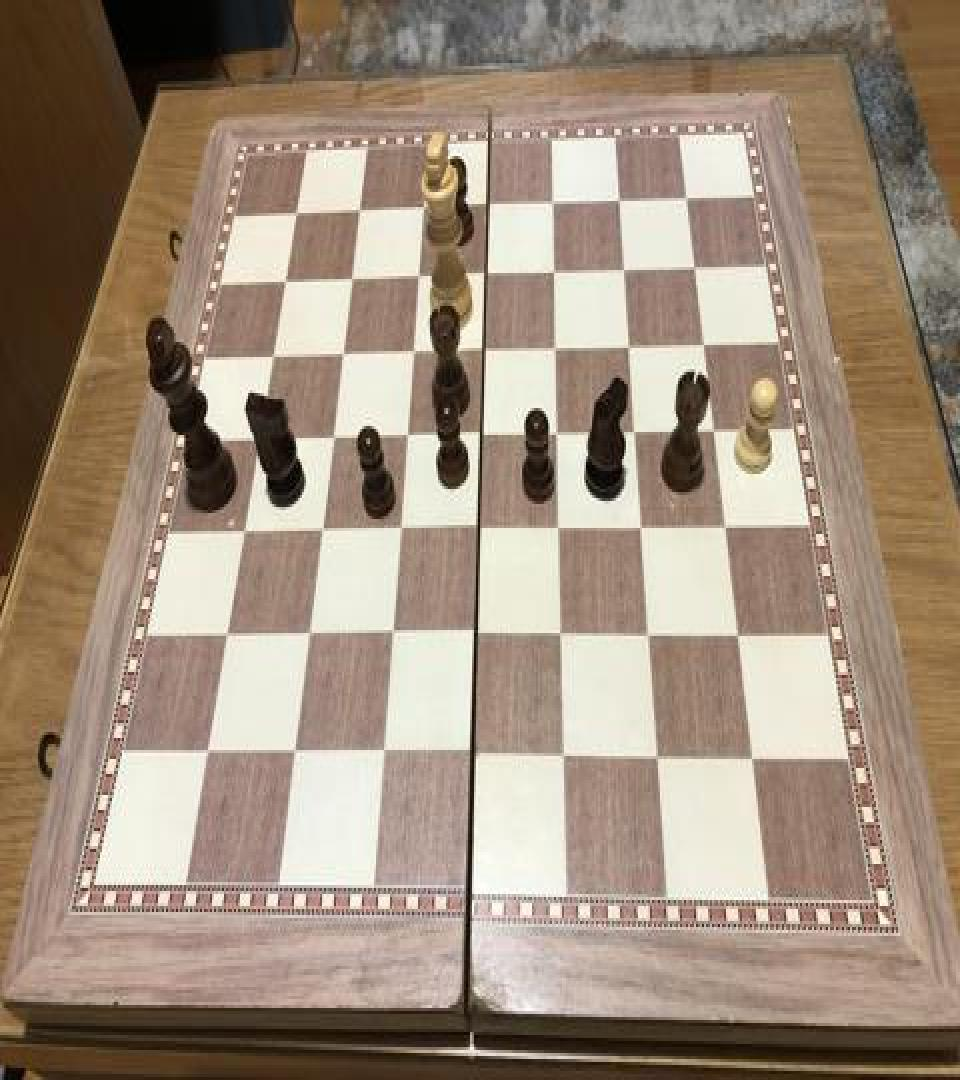xcorner: (725, 616, 749, 653), (637, 616, 661, 653), (550, 616, 574, 653), (464, 616, 488, 653), (380, 616, 404, 653), (297, 616, 321, 653), (215, 616, 239, 653), (741, 739, 765, 776), (196, 733, 220, 770), (672, 182, 696, 218), (605, 184, 629, 220), (474, 189, 498, 225), (410, 192, 434, 228), (347, 195, 371, 231), (284, 198, 308, 234), (680, 250, 704, 286), (610, 254, 634, 290), (541, 255, 565, 291), (473, 258, 497, 294), (339, 262, 363, 298), (273, 266, 297, 302), (690, 327, 714, 363), (543, 332, 567, 368), (471, 333, 495, 369), (400, 334, 424, 370), (330, 338, 354, 374), (261, 339, 285, 375), (622, 414, 646, 450), (545, 416, 569, 452), (469, 417, 493, 453), (394, 418, 418, 454), (320, 420, 344, 456), (247, 422, 271, 458), (712, 508, 736, 544), (629, 508, 653, 544), (547, 510, 571, 546), (467, 510, 491, 546), (387, 512, 411, 548), (309, 513, 333, 549), (232, 513, 256, 549), (646, 738, 670, 774), (553, 738, 577, 774), (461, 736, 485, 772), (371, 736, 395, 772), (283, 735, 307, 771), (539, 188, 563, 223), (405, 260, 429, 295), (616, 329, 640, 364), (700, 413, 724, 448)
